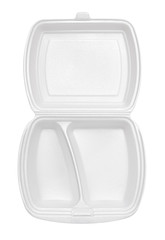styrofoam: (18, 11, 145, 225)
